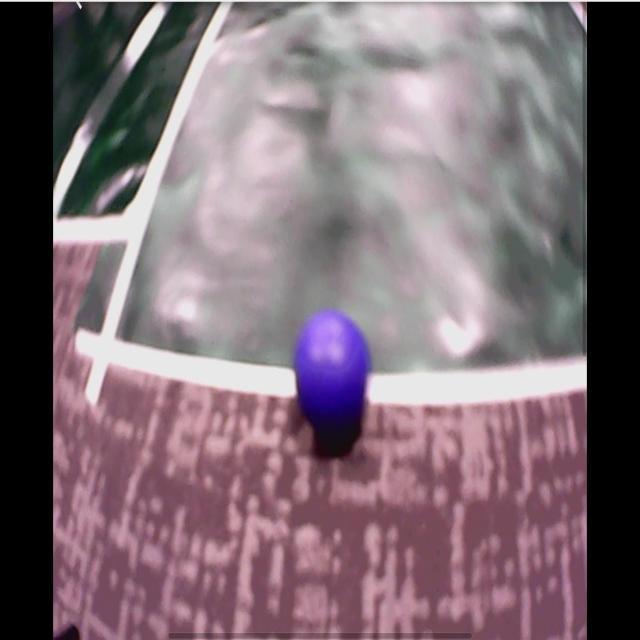ball: (296, 312, 371, 428)
